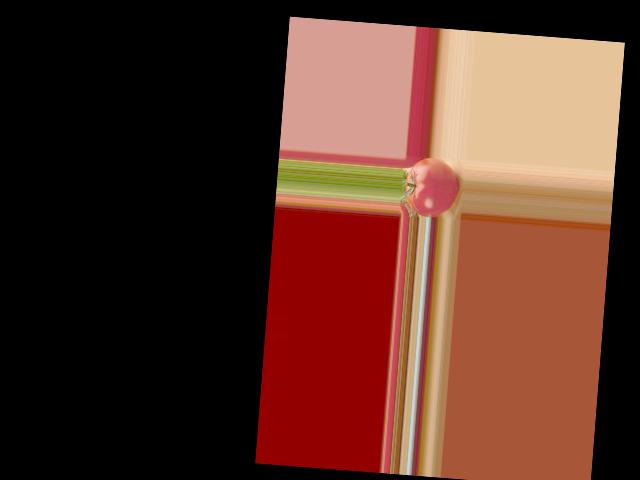tomato: (404, 156, 459, 218)
